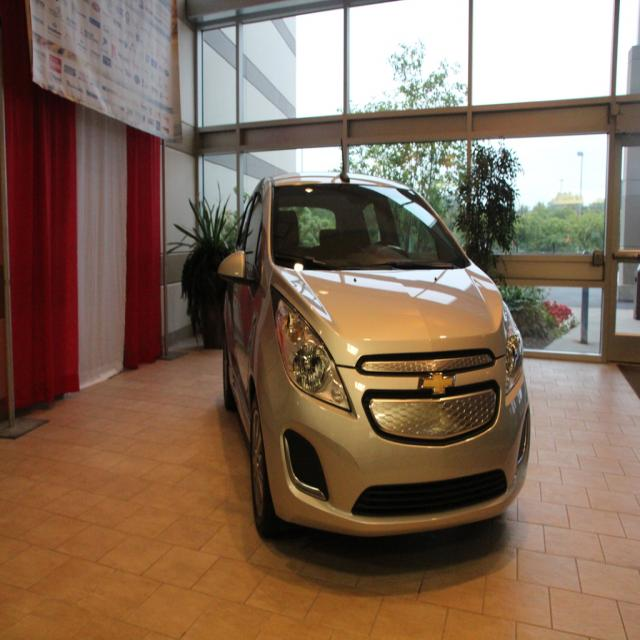other: (220, 141, 530, 538)
